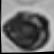correct: (0, 6, 51, 53)
